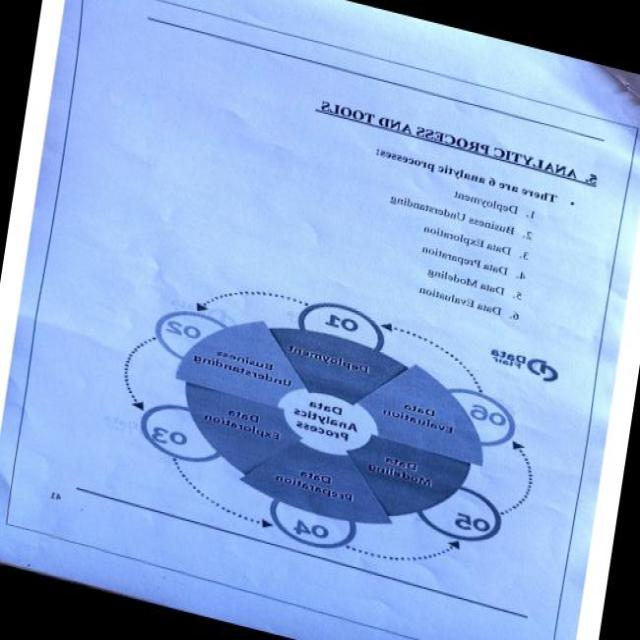Figure Detection - v3 Dataset Version2: (80, 239, 575, 608)
